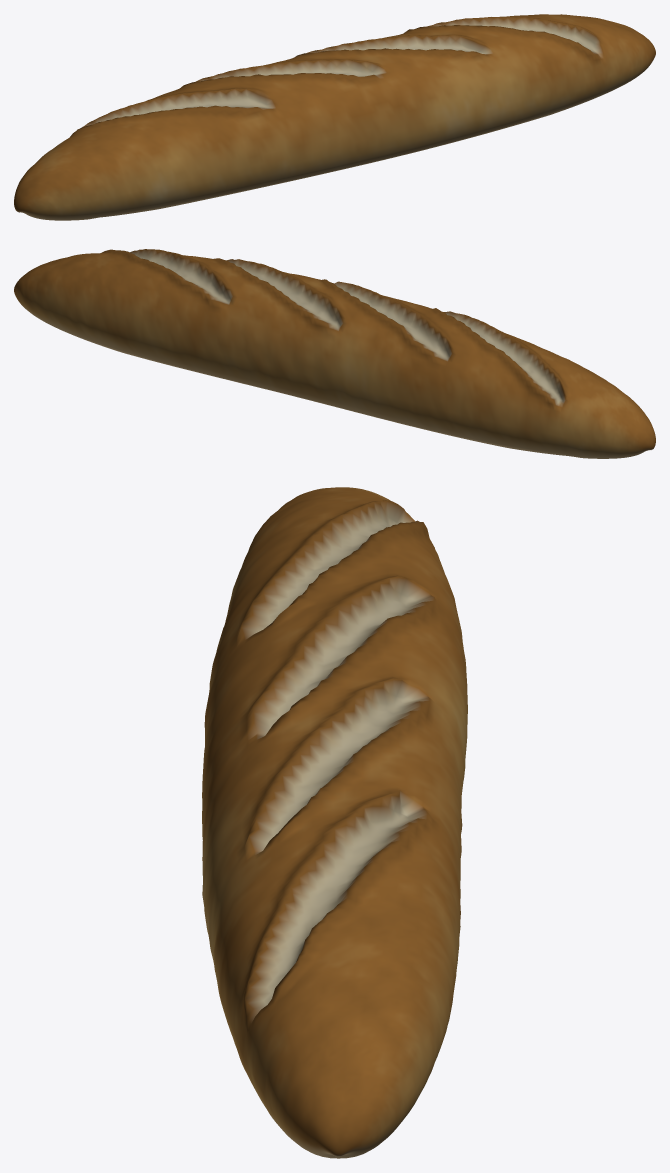
Rendered from baguette-klein.glb.
The picture shows the model from 3 angles, top to bottom: view 1: azimuth 30°, elevation 25°; view 2: azimuth 150°, elevation 25°; view 3: azimuth 270°, elevation 25°; orthographic projection. The views are drawn at different scales.
Parts seen in each view (by area): view 1: baguette-klein; view 2: baguette-klein; view 3: baguette-klein.
Boxes of the visible parts, x1,y1,x2,y2 form: baguette-klein: (14, 14, 655, 220); baguette-klein: (14, 249, 655, 458); baguette-klein: (202, 487, 467, 1158).
Size of the model in its own units: 0.36 by 0.05 by 0.065.
